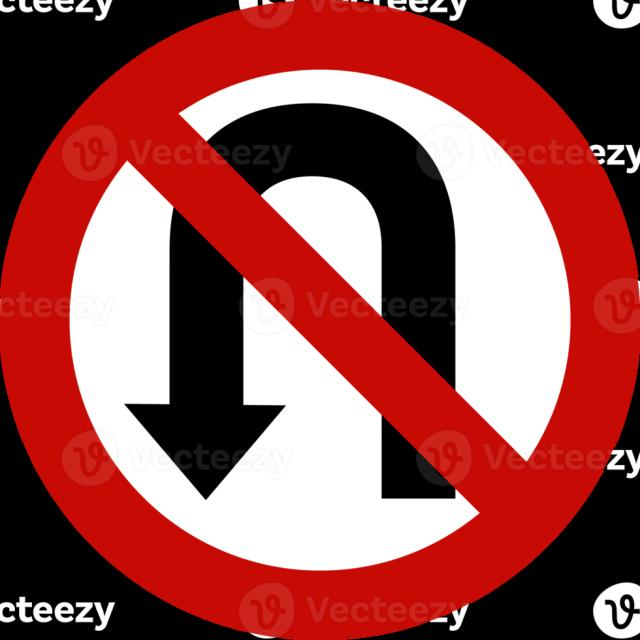Demi-Tour-Interdit: (20, 19, 613, 620)
